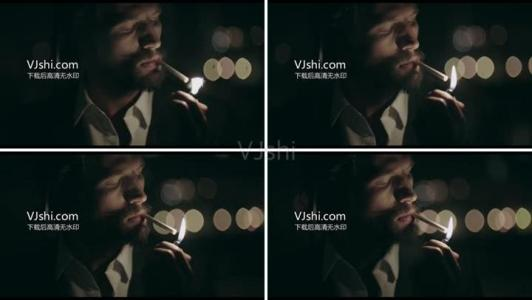fire: (170, 210, 195, 254), (443, 55, 468, 97), (184, 70, 209, 107), (440, 207, 460, 252)
